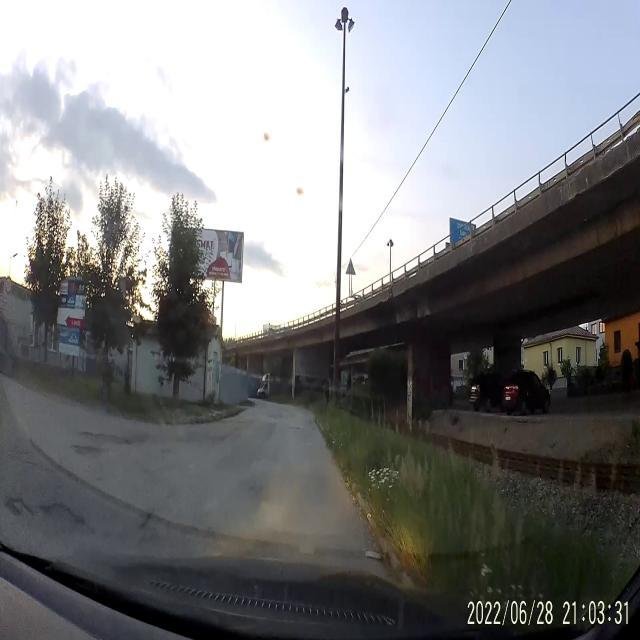Pothole: (38, 500, 90, 533), (4, 492, 36, 523), (80, 429, 132, 446), (72, 440, 104, 462)
